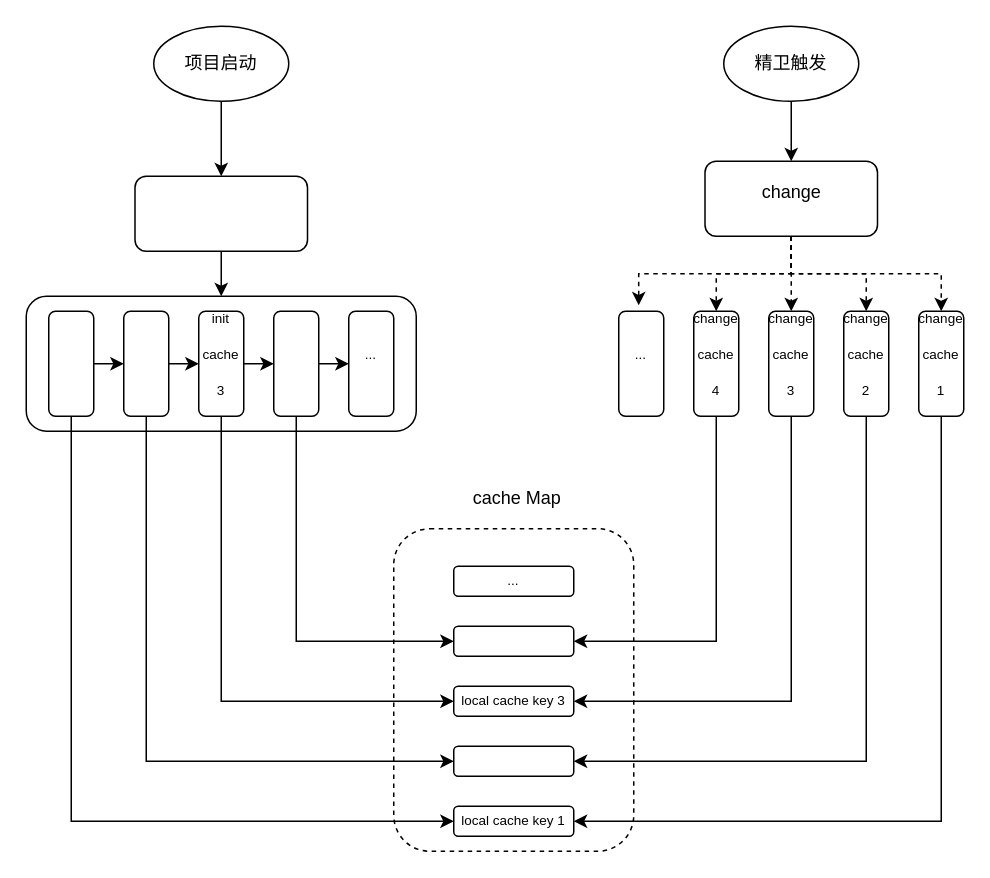
The diagram is 990 pixels wide and 878 high, and some of its shapes have lost their labels. Here are the shapes that lost their labels. From the top down, the box of each, then its label:
(134, 175, 308, 251): initCache
(47, 310, 94, 416): init cache 1
(122, 310, 169, 416): init cache 2
(272, 310, 319, 416): init cache 4
(452, 625, 574, 656): local cache key 4
(452, 745, 574, 776): local cache key 2
